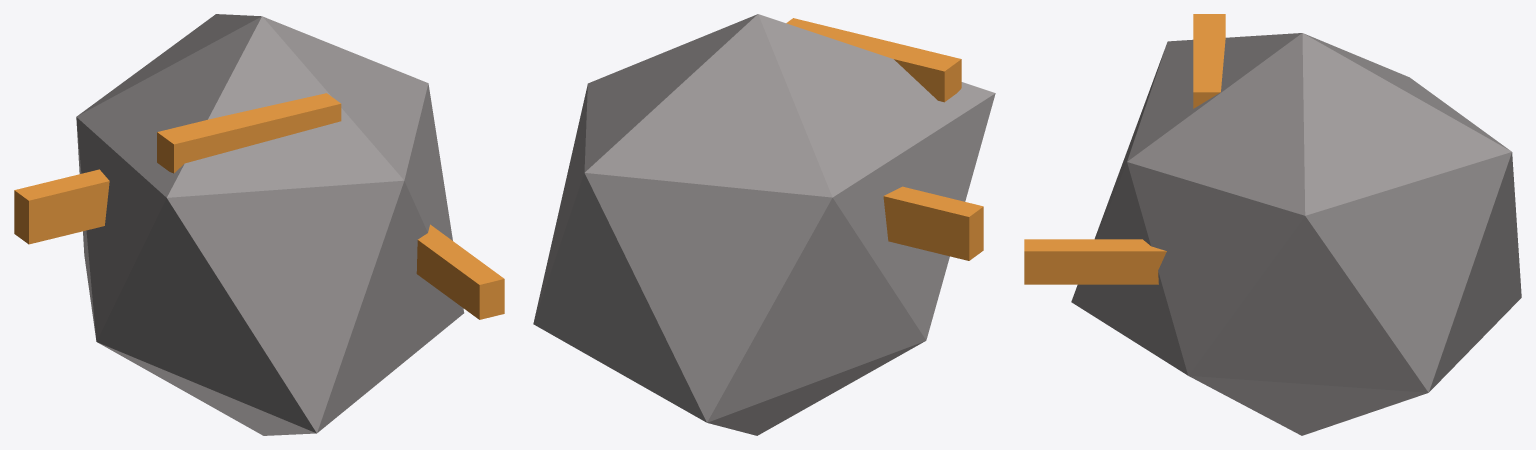
Rendered from OreNode.fbx.
3 renders of one model, left to right at view 1: azimuth 30°, elevation 25°; view 2: azimuth 150°, elevation 25°; view 3: azimuth 270°, elevation 25°, orthographic. The views are drawn at different scales.
Visible parts, largest first — view 1: OreNode_Rock, OreNode_Vein4, OreNode_Vein2, OreNode_Vein3; view 2: OreNode_Rock, OreNode_Vein2, OreNode_Vein4; view 3: OreNode_Rock, OreNode_Vein3, OreNode_Vein4.
Boxes of the visible parts, x1=… form: OreNode_Rock: x1=76, y1=14, x2=464, y2=435; OreNode_Vein4: x1=157, y1=93, x2=341, y2=173; OreNode_Vein2: x1=14, y1=169, x2=109, y2=244; OreNode_Vein3: x1=416, y1=224, x2=504, y2=319; OreNode_Rock: x1=533, y1=14, x2=995, y2=435; OreNode_Vein2: x1=883, y1=186, x2=983, y2=260; OreNode_Vein4: x1=786, y1=18, x2=961, y2=102; OreNode_Rock: x1=1071, y1=33, x2=1521, y2=435; OreNode_Vein3: x1=1024, y1=239, x2=1166, y2=284; OreNode_Vein4: x1=1193, y1=14, x2=1225, y2=108.
Size of the model in its own units: 1.76 by 1.79 by 2.
